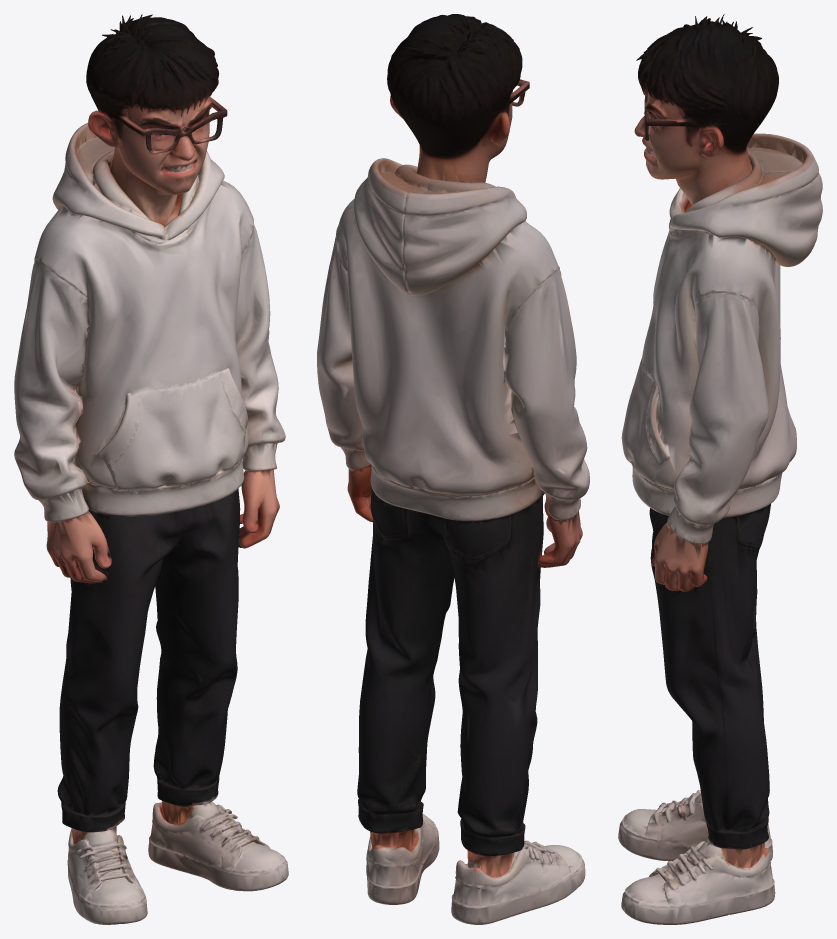
Rendered from mood-08.glb.
The picture shows the model from 3 angles, left to right: view 1: azimuth 30°, elevation 25°; view 2: azimuth 150°, elevation 25°; view 3: azimuth 270°, elevation 25°; orthographic projection.
Visible parts, largest first — view 1: node_0; view 2: node_0; view 3: node_0.
Boxes of the visible parts, x1=… form: node_0: x1=14, y1=14, x2=288, y2=924; node_0: x1=317, y1=14, x2=589, y2=924; node_0: x1=618, y1=14, x2=822, y2=924.
Bounding box in the file's own units: 0.3604 × 1.17 × 0.2523.
Materials: 1 (1 with a texture image).
